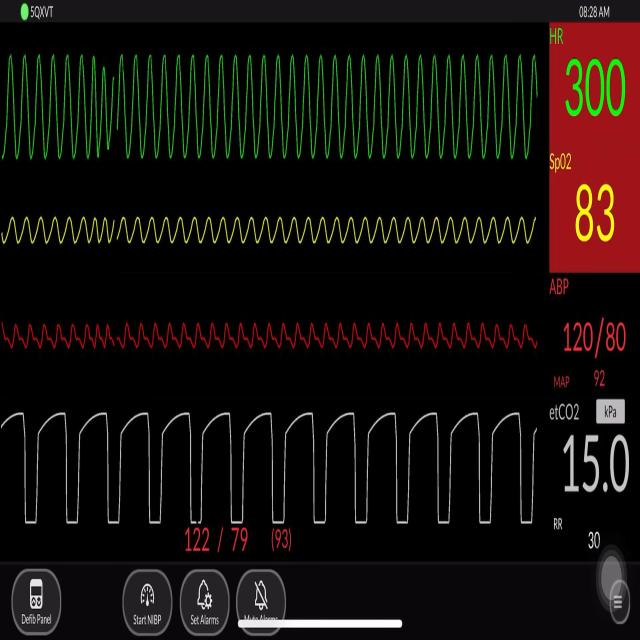danger: (4, 43, 540, 173)
